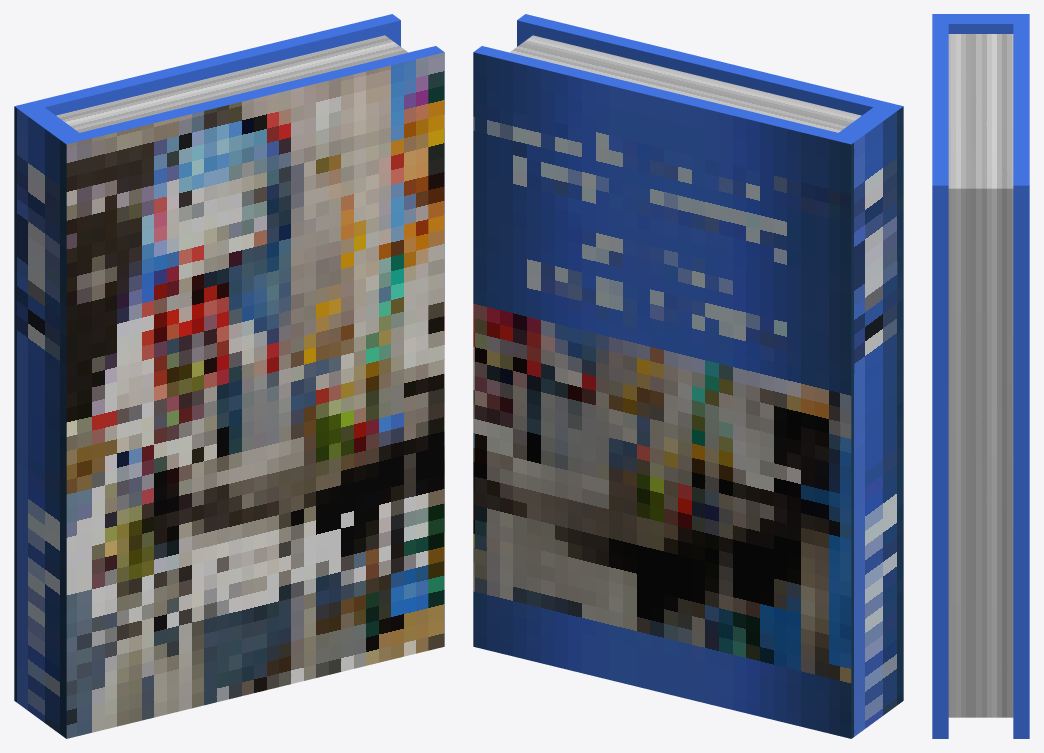
The model's file is book_blue_03.fbx.
The picture shows the model from 3 angles, left to right: view 1: azimuth 30°, elevation 25°; view 2: azimuth 150°, elevation 25°; view 3: azimuth 270°, elevation 25°; orthographic projection. The views are drawn at different scales.
Visible parts, largest first — view 1: Book_Blue_3; view 2: Book_Blue_3; view 3: Book_Blue_3.
Boxes of the visible parts, x1,y1,x2,y2 form: Book_Blue_3: (14,14,444,738); Book_Blue_3: (473,14,903,738); Book_Blue_3: (932,14,1029,738).
Bounding box in the file's own units: 15.92 × 23.91 × 3.81.
